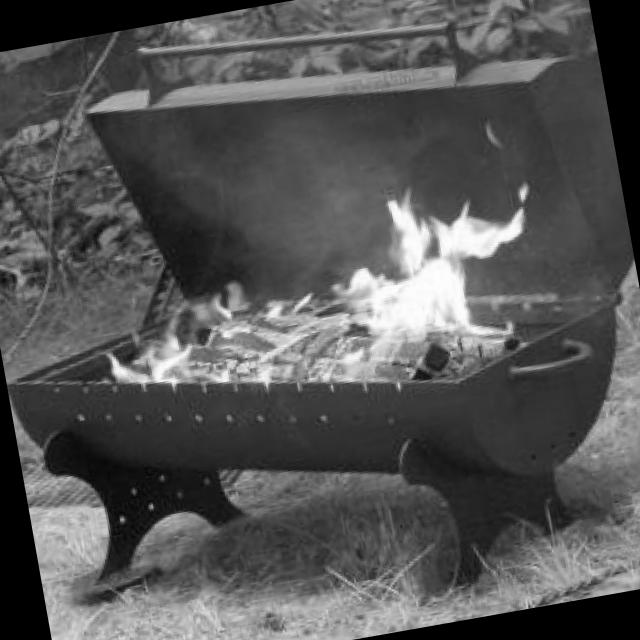fire: (88, 234, 353, 430), (318, 166, 540, 382)
